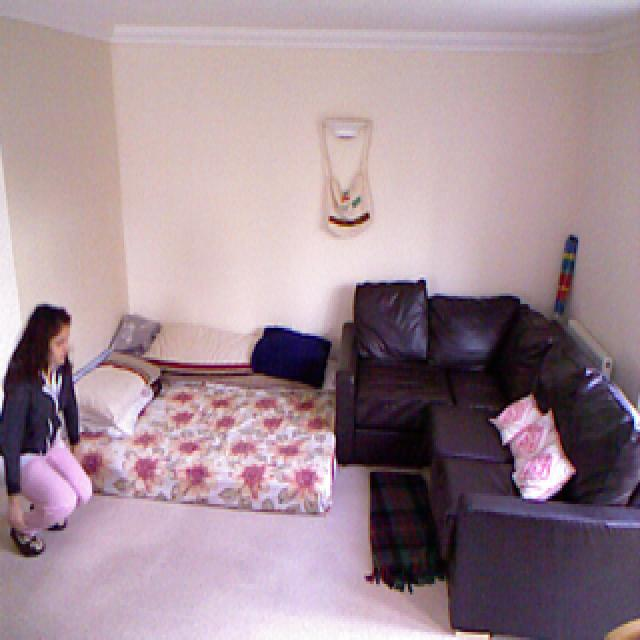bending: (0, 304, 94, 555)
